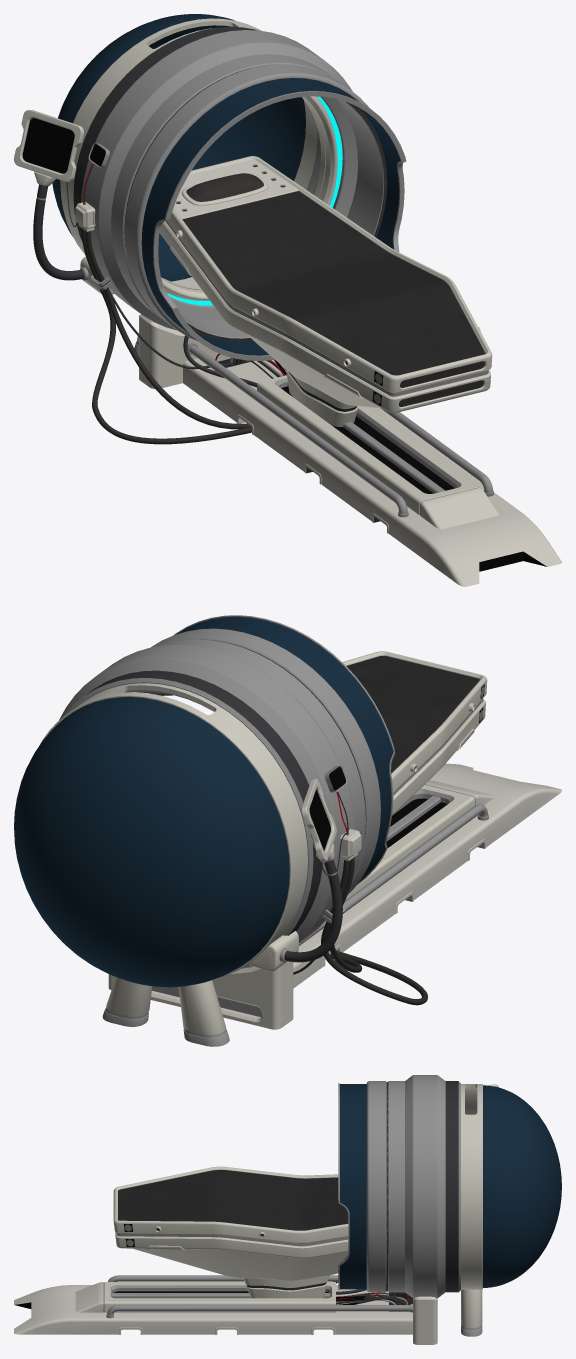
File: lab. masası.fbx
3 views of the same model, one above another, from view 1: azimuth 30°, elevation 25°; view 2: azimuth 150°, elevation 25°; view 3: azimuth 270°, elevation 25° (orthographic). The views are drawn at different scales.
Visible parts, largest first — view 1: Cylinder_Machine, Bed, Bed_Bottom; view 2: Cylinder_Machine, Bed_Bottom, Bed; view 3: Cylinder_Machine, Bed, Bed_Bottom.
Part boxes in pixels (x1=…): Cylinder_Machine: x1=14, y1=14, x2=406, y2=444; Bed: x1=159, y1=156, x2=492, y2=426; Bed_Bottom: x1=183, y1=342, x2=561, y2=586; Cylinder_Machine: x1=14, y1=615, x2=427, y2=1046; Bed_Bottom: x1=293, y1=763, x2=561, y2=988; Bed: x1=342, y1=651, x2=487, y2=815; Cylinder_Machine: x1=333, y1=1075, x2=561, y2=1344; Bed: x1=113, y1=1166, x2=348, y2=1298; Bed_Bottom: x1=14, y1=1275, x2=412, y2=1334.
Bounding box in the file's own units: 152 × 157 × 337.
3 materials, 1 textured.
